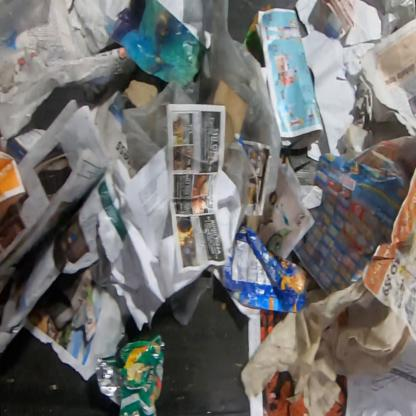cardboard: (212, 81, 248, 143), (124, 68, 170, 109)
soft_plastic: (121, 0, 282, 195), (94, 333, 167, 415), (0, 0, 53, 40)
